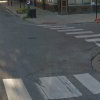crosswalk: (2, 73, 99, 100), (37, 24, 100, 45)
